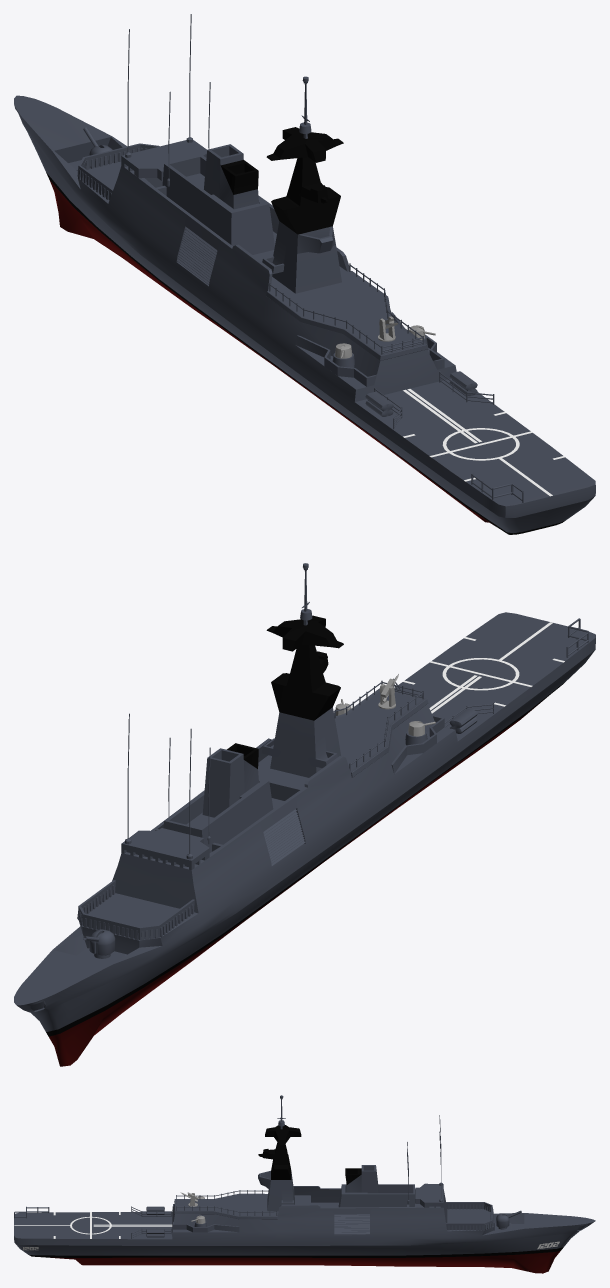
Rendered from 康定艦.FBX.
3 views of the same model, one above another, from view 1: azimuth 30°, elevation 25°; view 2: azimuth 150°, elevation 25°; view 3: azimuth 270°, elevation 25° (orthographic). The views are drawn at different scales.
Visible parts, largest first — view 1: 康定艦; view 2: 康定艦; view 3: 康定艦.
Boxes of the visible parts, bbox=[...] form: 康定艦: bbox=[14, 14, 595, 534]; 康定艦: bbox=[14, 563, 595, 1066]; 康定艦: bbox=[14, 1095, 595, 1273].
Size of the model in its own units: 1929 by 5827 by 17346.
